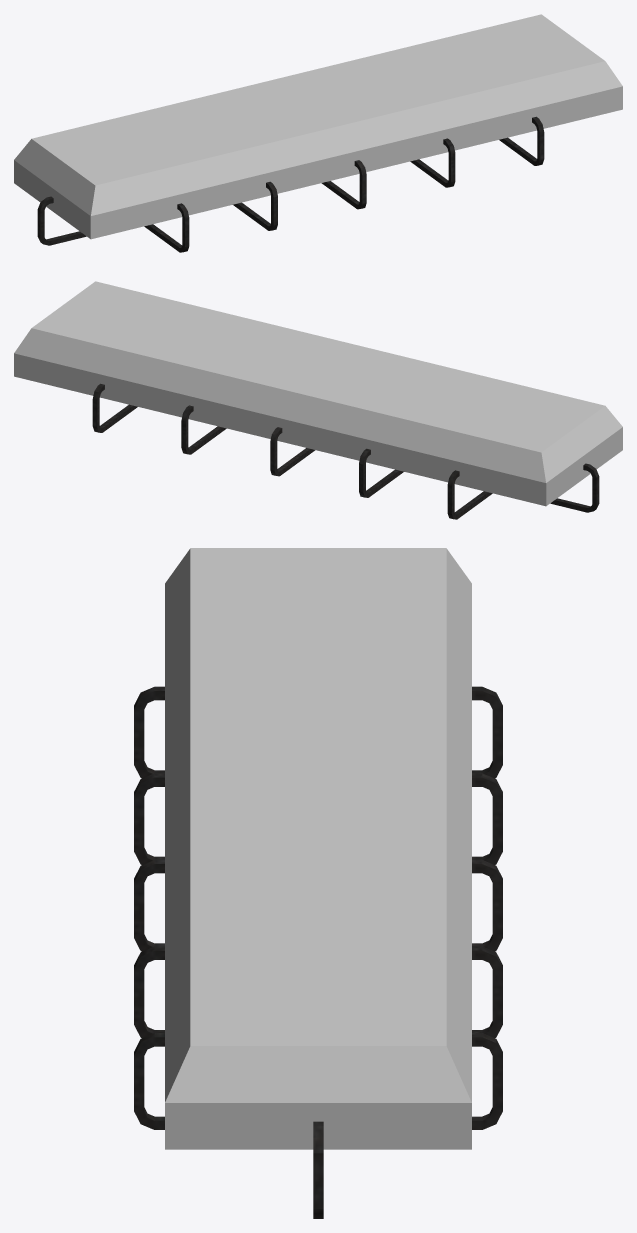
File: ceiling_lamp_4_1_on.fbx
3 views of the same model, one above another, from view 1: azimuth 30°, elevation 25°; view 2: azimuth 150°, elevation 25°; view 3: azimuth 270°, elevation 25° (orthographic). The views are drawn at different scales.
Visible parts, largest first — view 1: ceiling_lamp_4_1_on, ceiling_lamp_4_1_on_protector; view 2: ceiling_lamp_4_1_on, ceiling_lamp_4_1_on_protector; view 3: ceiling_lamp_4_1_on, ceiling_lamp_4_1_on_protector.
Part boxes in pixels (x1,y1,x2,y2): ceiling_lamp_4_1_on: (14, 14, 622, 239); ceiling_lamp_4_1_on_protector: (37, 116, 544, 252); ceiling_lamp_4_1_on: (14, 281, 622, 506); ceiling_lamp_4_1_on_protector: (92, 383, 599, 519); ceiling_lamp_4_1_on: (165, 548, 471, 1149); ceiling_lamp_4_1_on_protector: (134, 686, 502, 1218).
Size of the model in its own units: 1.26 by 0.36 by 0.17.
